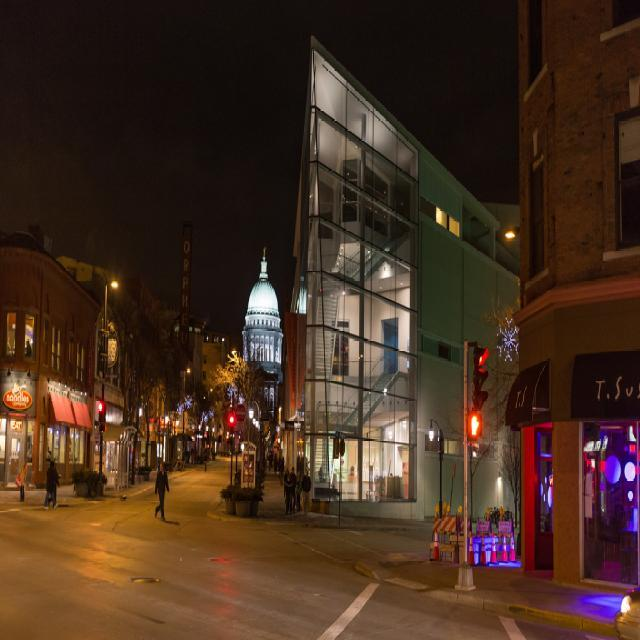traffic light: (474, 343, 490, 406)
